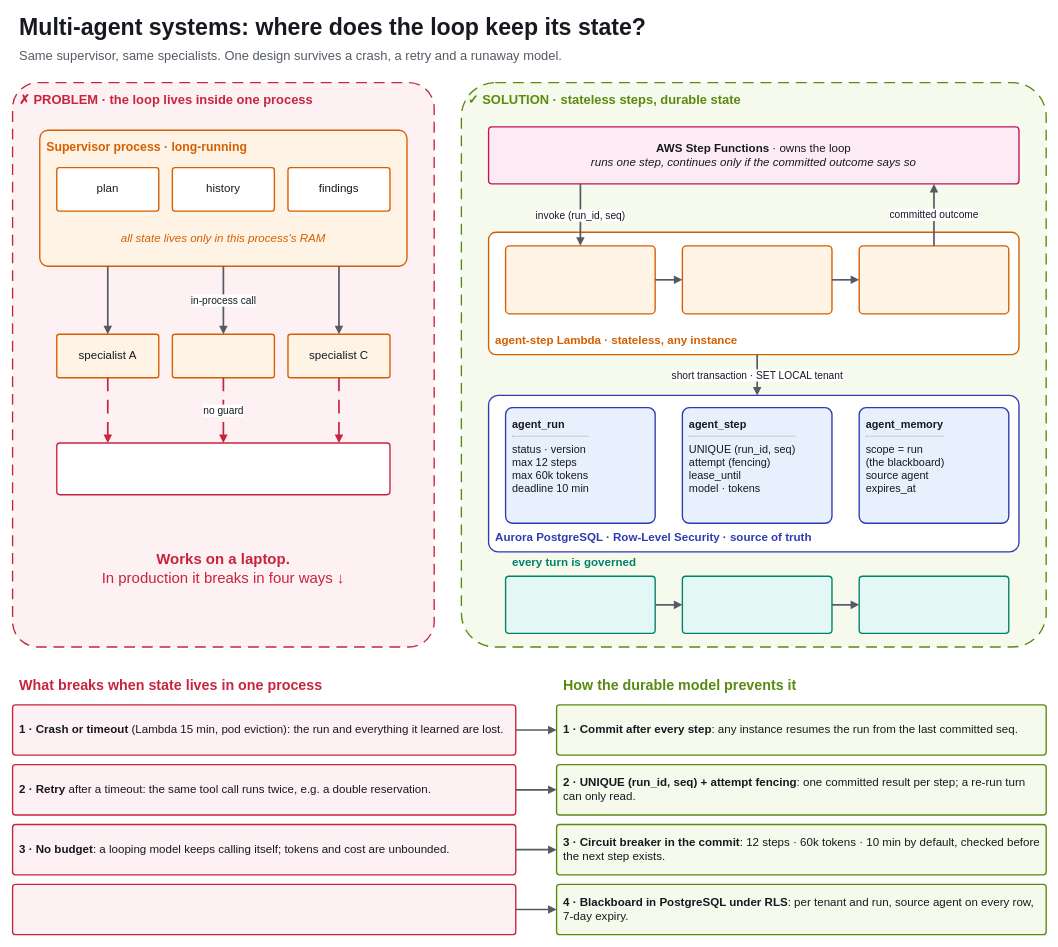
Image size: 1058x947. Some labels were removed from this diagram. Each missing label, with the centre of its shape:
4 · Memory in RAM : no tenant boundary, no audit trail, sticky sessions.: the point at 264,909
closed catalog supervisor picks specialists: the point at 580,604
MCP gateway allow-list · quota read-only tools: the point at 756,604
no operational writes output is a recommendation: the point at 933,604
specialist B: the point at 223,355
tools and direct writes reserve · notify · update: the point at 223,468
① claim lease · attempt + 1 budget check: the point at 580,279
② execute one turn of one agent no transaction held: the point at 756,279
③ complete fenced by attempt commit · next seq: the point at 933,279
